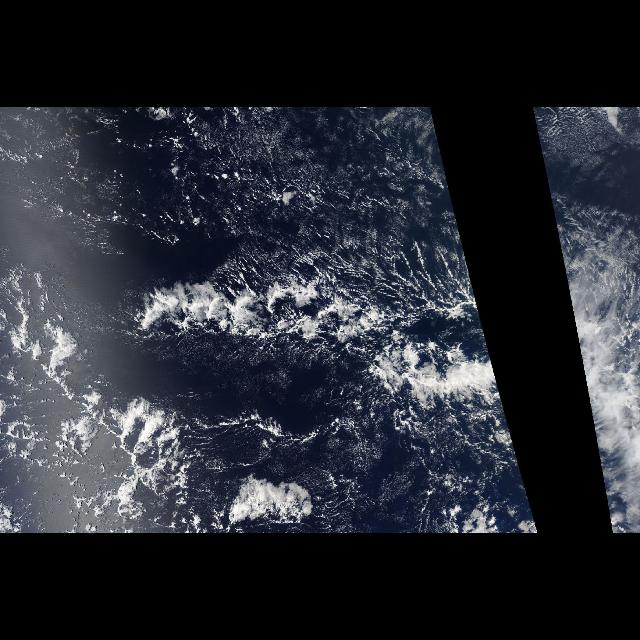Fish: (101, 226, 495, 372)
Gravel: (0, 274, 482, 522)
Sugar: (196, 140, 460, 272)
